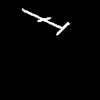double_crochet: (22, 9, 68, 34)
